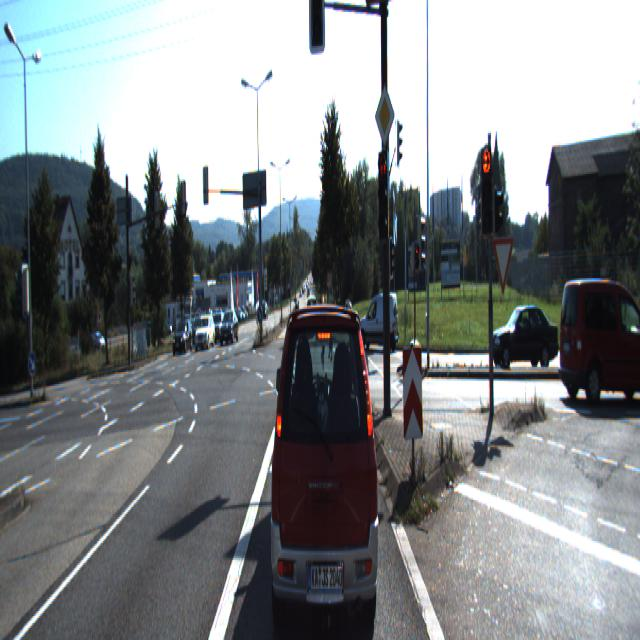Car: (267, 276, 381, 635), (558, 272, 640, 404), (488, 298, 560, 373), (356, 289, 400, 351), (172, 321, 193, 355), (195, 316, 215, 350), (219, 310, 239, 344)
